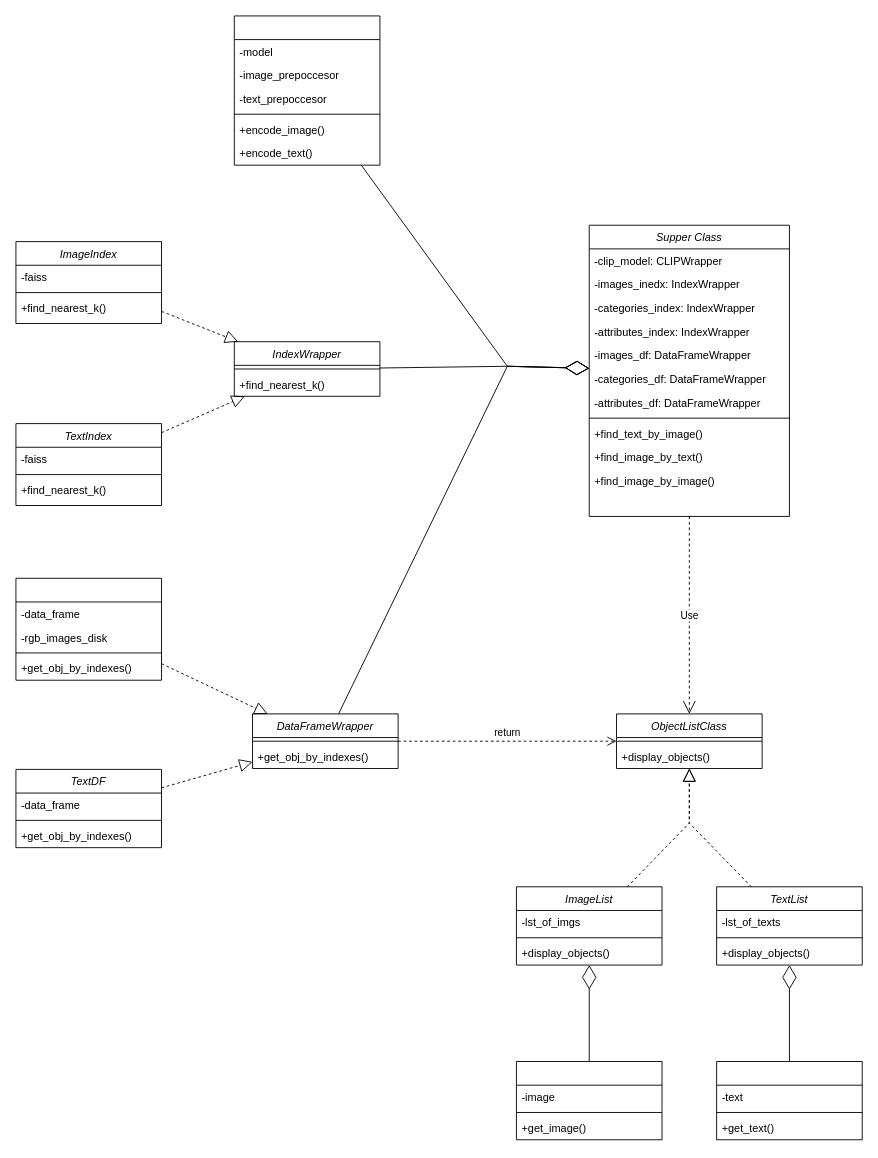
Image size: 878x1158. Some labels were removed from this diagram. Each missing label, with the box of its shape:
CLIPWrapper: (233, 15, 380, 165)
Image-class: (516, 1061, 662, 1140)
ImageDF: (15, 577, 162, 680)
TextQuery-class: (716, 1061, 862, 1140)
